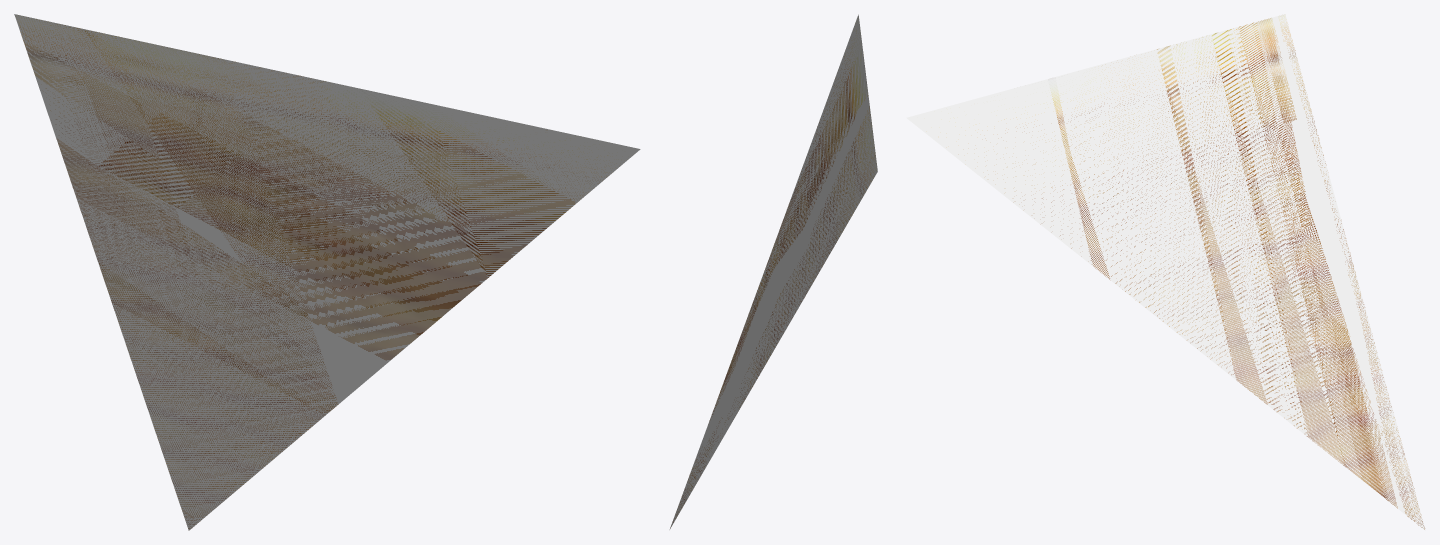
Rendered from 西庸城堡222.dae.
3 renders of one model, left to right at view 1: azimuth 30°, elevation 25°; view 2: azimuth 150°, elevation 25°; view 3: azimuth 270°, elevation 25°, orthographic. The views are drawn at different scales.
Parts seen in each view (by area): view 1: SketchUp; view 2: SketchUp; view 3: SketchUp.
Part boxes in pixels (bbox=[...]): SketchUp: bbox=[14, 14, 640, 530]; SketchUp: bbox=[669, 14, 877, 529]; SketchUp: bbox=[906, 14, 1425, 530].
Bounding box in the file's own units: 30.74 × 64.97 × 59.06.
